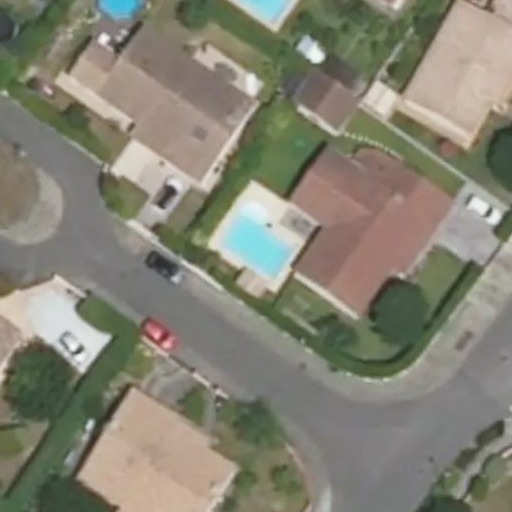pool: (218, 238, 293, 245)
